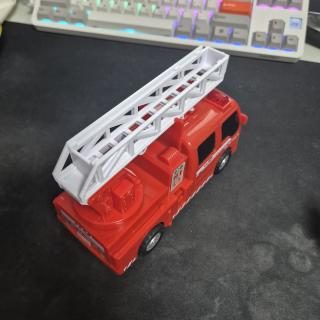Fire_truck: (53, 47, 247, 274)
